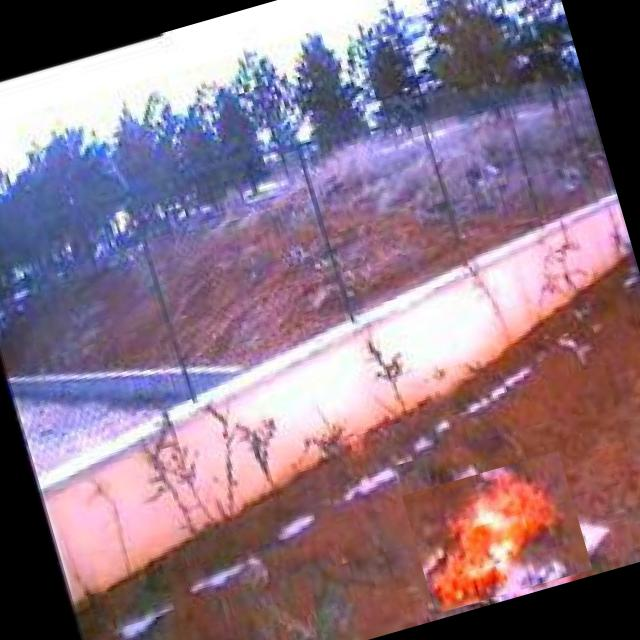fire: (402, 451, 592, 614)
